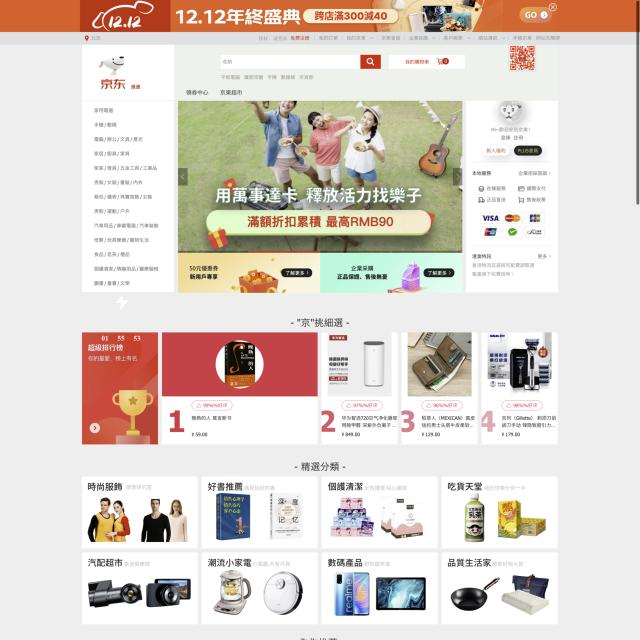input: (221, 54, 381, 69)
logo: (90, 1, 163, 32)
navigation: (257, 33, 564, 43)
